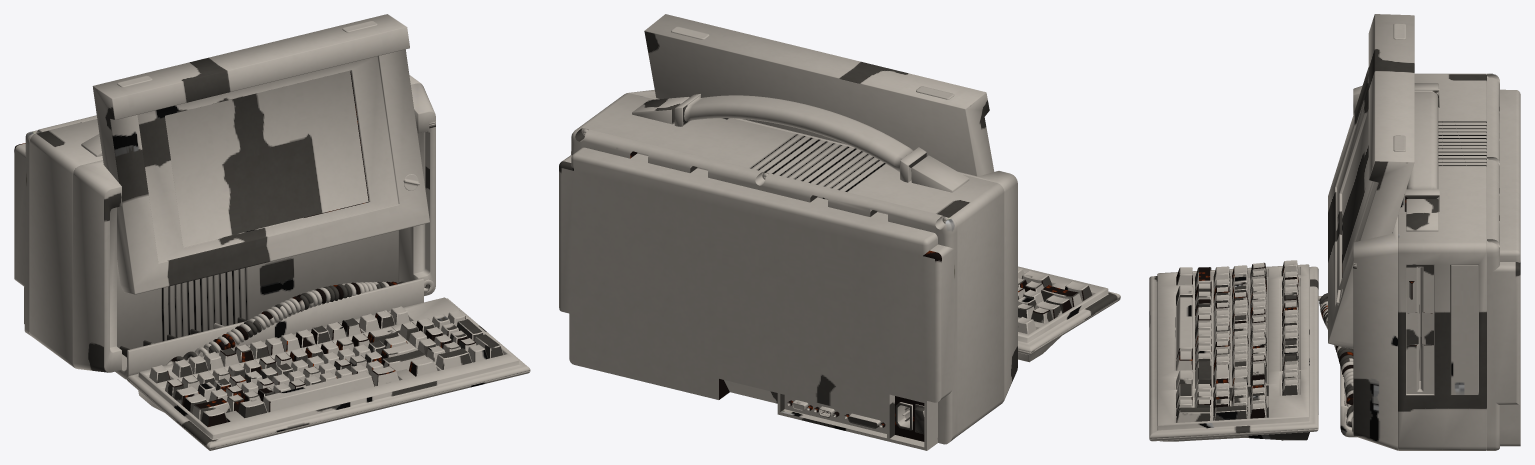
The picture shows the model from 3 angles, left to right: view 1: azimuth 30°, elevation 25°; view 2: azimuth 150°, elevation 25°; view 3: azimuth 270°, elevation 25°; orthographic projection. The views are drawn at different scales.
Visible parts, largest first — view 1: BM86_Portable; view 2: BM86_Portable; view 3: BM86_Portable.
Boxes of the visible parts, bbox=[...] form: BM86_Portable: bbox=[14, 14, 530, 450]; BM86_Portable: bbox=[559, 14, 1120, 450]; BM86_Portable: bbox=[1149, 14, 1520, 450].
Size of the model in its own units: 0.4441 by 0.3276 by 0.3947.
1 material, 1 textured.
